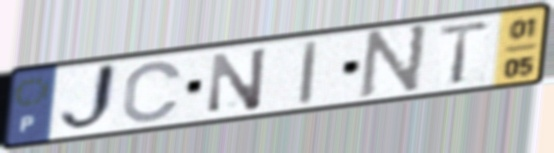C: (119, 59, 186, 125)
I: (296, 37, 322, 107)
J: (56, 59, 121, 138)
N: (355, 22, 432, 101), (206, 44, 271, 116)
T: (435, 18, 495, 87)
